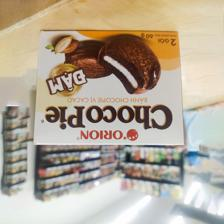Chocopie_cacao: (32, 24, 185, 148)
